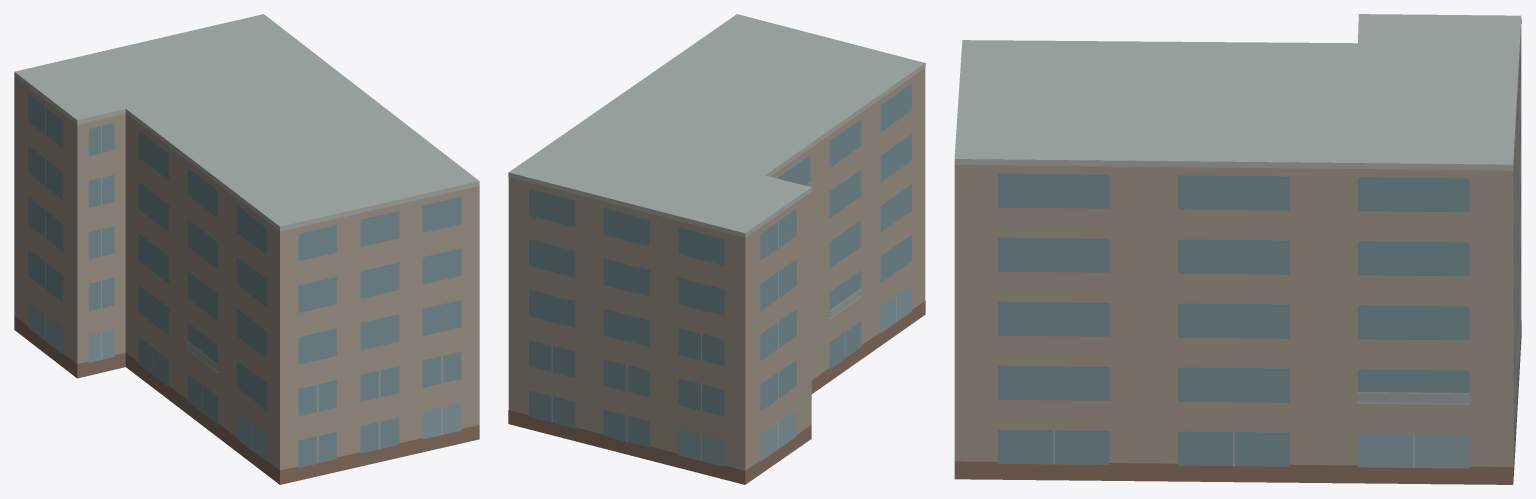
Rendered from survey-upis-32983508.glb.
The picture shows the model from 3 angles, left to right: view 1: azimuth 30°, elevation 25°; view 2: azimuth 150°, elevation 25°; view 3: azimuth 270°, elevation 25°; orthographic projection. The views are drawn at different scales.
Parts seen in each view (by area): view 1: survey-upis-32983508.tmp; view 2: survey-upis-32983508.tmp; view 3: survey-upis-32983508.tmp.
Part boxes in pixels (box(x1,y1,x2,y2)): survey-upis-32983508.tmp: box(14, 14, 479, 484); survey-upis-32983508.tmp: box(508, 14, 925, 484); survey-upis-32983508.tmp: box(954, 14, 1521, 484).
Bounding box in the file's own units: 13.32 × 13.2 × 21.19.
